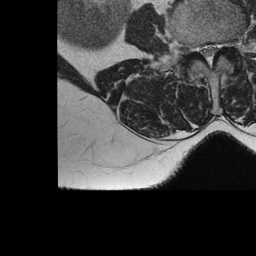CCS_normal: (205, 34, 213, 74)
LFS_stenosis: (222, 29, 232, 58)
LLS_stenosis: (213, 33, 222, 63)
RFS_stenosis: (188, 34, 196, 61)
RLS_normal: (196, 34, 205, 64)
